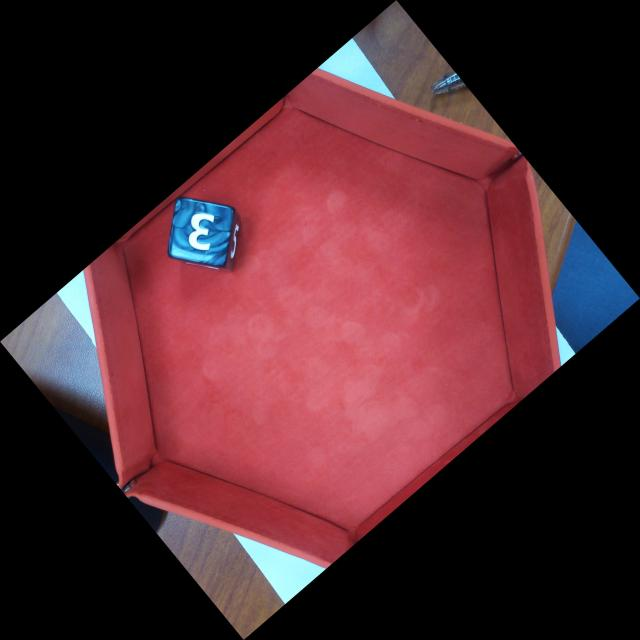dice: (173, 197, 231, 264)
